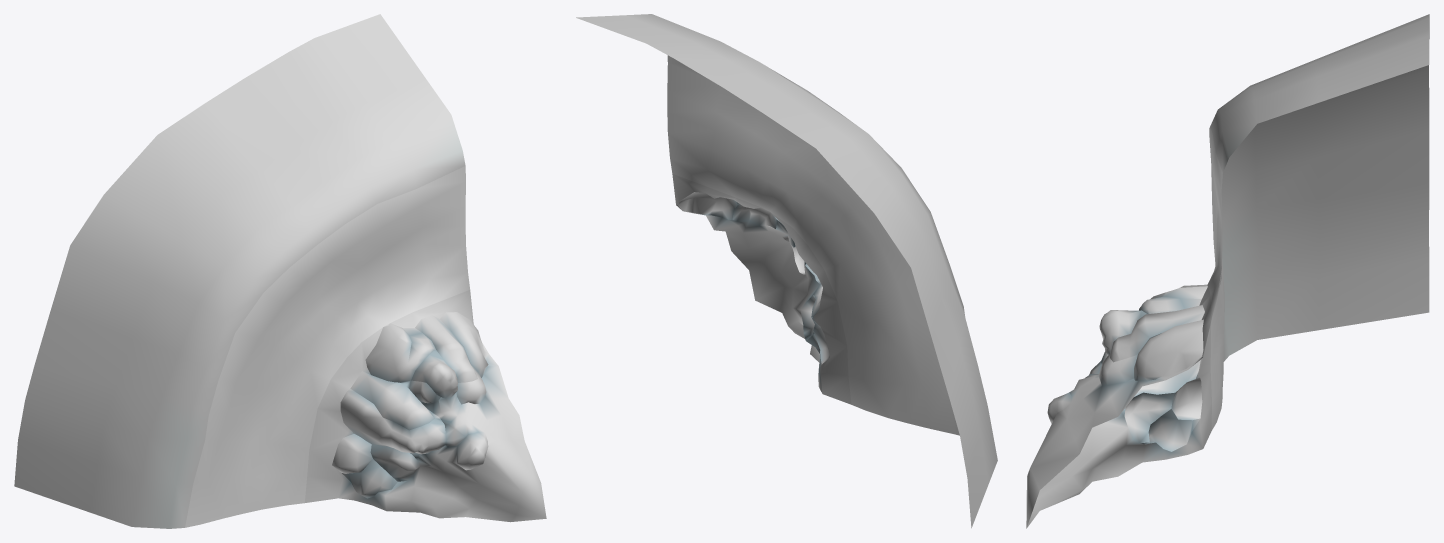
Rendered from Snow_CurveOutA.glb.
The picture shows the model from 3 angles, left to right: view 1: azimuth 30°, elevation 25°; view 2: azimuth 150°, elevation 25°; view 3: azimuth 270°, elevation 25°; orthographic projection. The views are drawn at different scales.
Parts seen in each view (by area): view 1: MeshNode_0, MeshNode_1; view 2: MeshNode_0, MeshNode_1; view 3: MeshNode_0, MeshNode_1.
Boxes of the visible parts, x1,y1,x2,y2 form: MeshNode_0: (14,14,546,528); MeshNode_1: (185,166,469,527); MeshNode_0: (576,14,997,528); MeshNode_1: (667,55,959,435); MeshNode_0: (1026,14,1429,528); MeshNode_1: (1208,128,1224,430).
Bounding box in the file's own units: 105 × 105 × 82.72.
